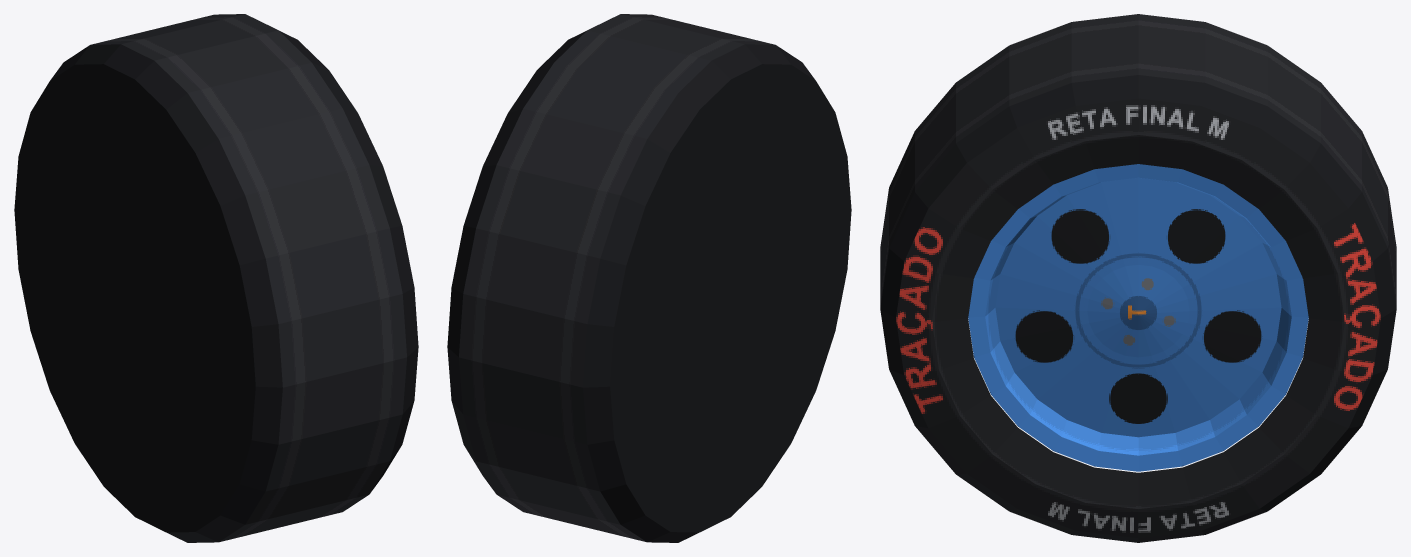
The model's file is tiziu_vazada_15_com_tracado_reta_final_m.glb.
3 views of the same model, side by side, from view 1: azimuth 30°, elevation 25°; view 2: azimuth 150°, elevation 25°; view 3: azimuth 270°, elevation 25° (orthographic).
Parts seen in each view (by area): view 1: tiziu_vazada_15_com_tracado_reta_final_m; view 2: tiziu_vazada_15_com_tracado_reta_final_m; view 3: tiziu_vazada_15_com_tracado_reta_final_m.
Part boxes in pixels (box(x1,y1,x2,y2)): tiziu_vazada_15_com_tracado_reta_final_m: box(14, 14, 418, 542); tiziu_vazada_15_com_tracado_reta_final_m: box(447, 14, 851, 542); tiziu_vazada_15_com_tracado_reta_final_m: box(880, 14, 1396, 542).
Size of the model in its own units: 0.2474 by 0.6468 by 0.6468.
2 materials, 2 textured.
